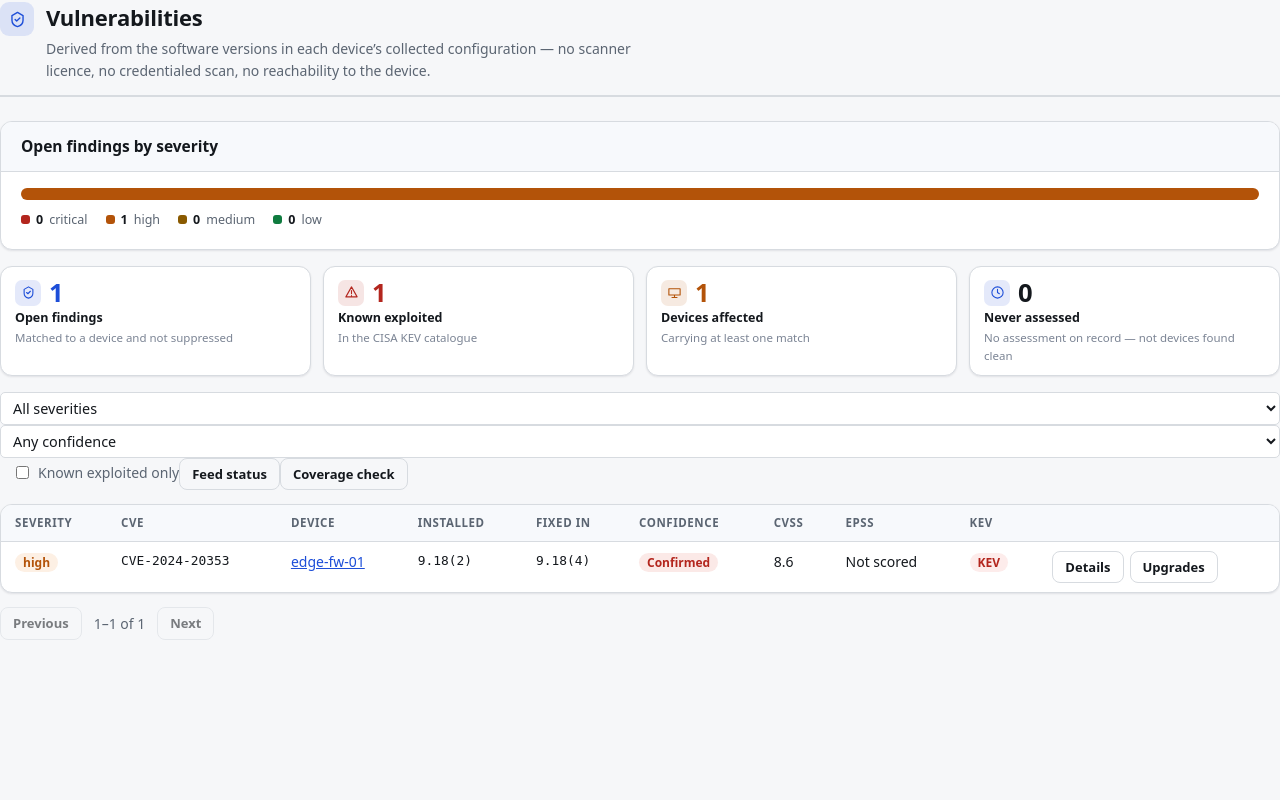
the coverage check › says so plainly when nothing could be checked at all
Click the button "Coverage check" at (344, 474), box [280,458,408,490]
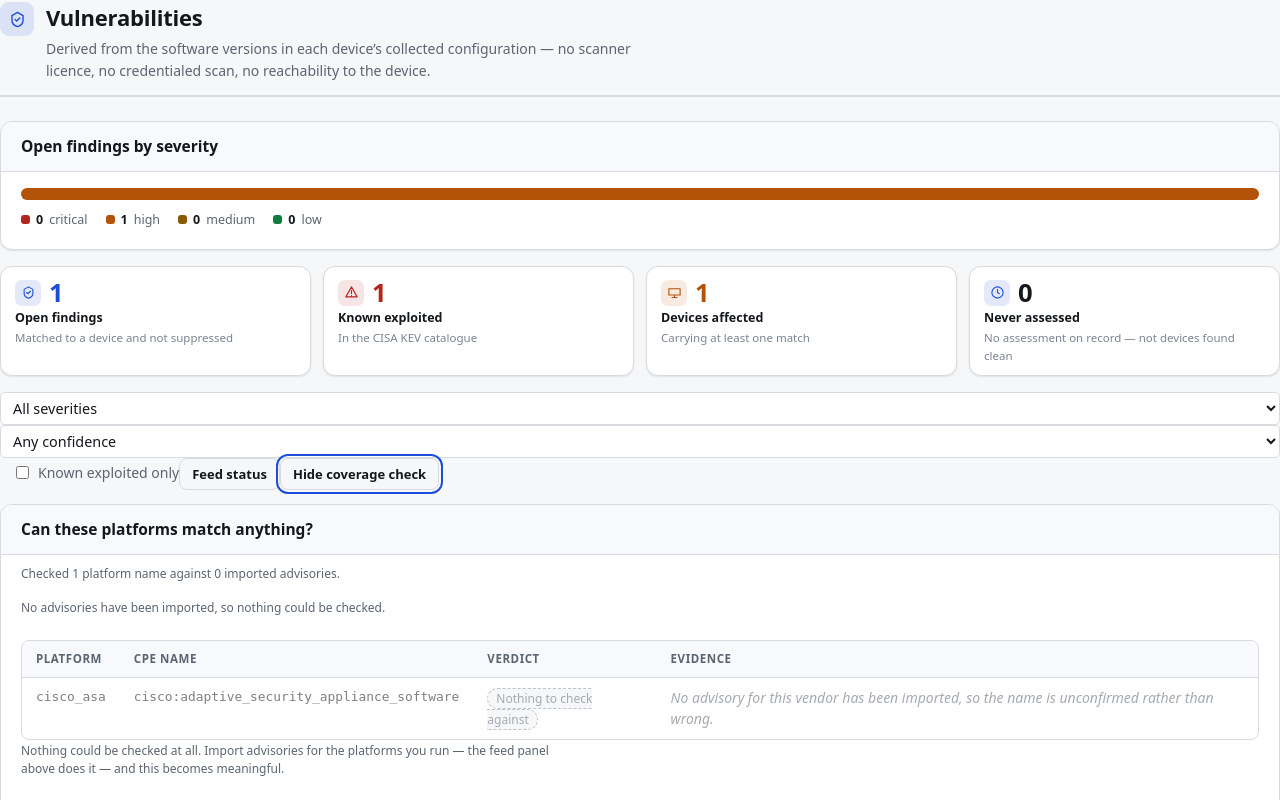
Expected: the text "cisco_asa" is shown, [22,677,120,739]
Expected: the text "Nothing could be checked at all" is shown, [21,742,549,778]
